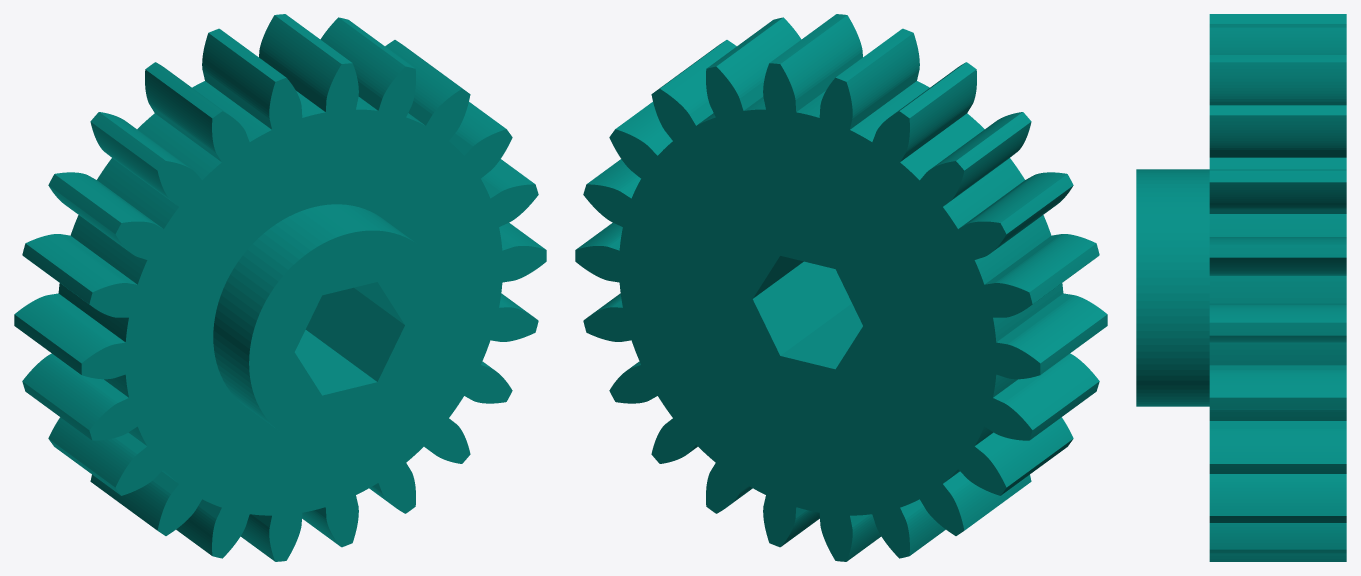
File: ali_pinon.glb
3 renders of one model, left to right at view 1: azimuth 30°, elevation 25°; view 2: azimuth 150°, elevation 25°; view 3: azimuth 270°, elevation 25°, orthographic. The views are drawn at different scales.
Parts seen in each view (by area): view 1: world; view 2: world; view 3: world.
Part boxes in pixels (<box>): world: <box>14,14,546,561</box>; world: <box>575,14,1107,561</box>; world: <box>1136,14,1346,561</box>.
Bounding box in the file's own units: 60 × 59.58 × 23.
